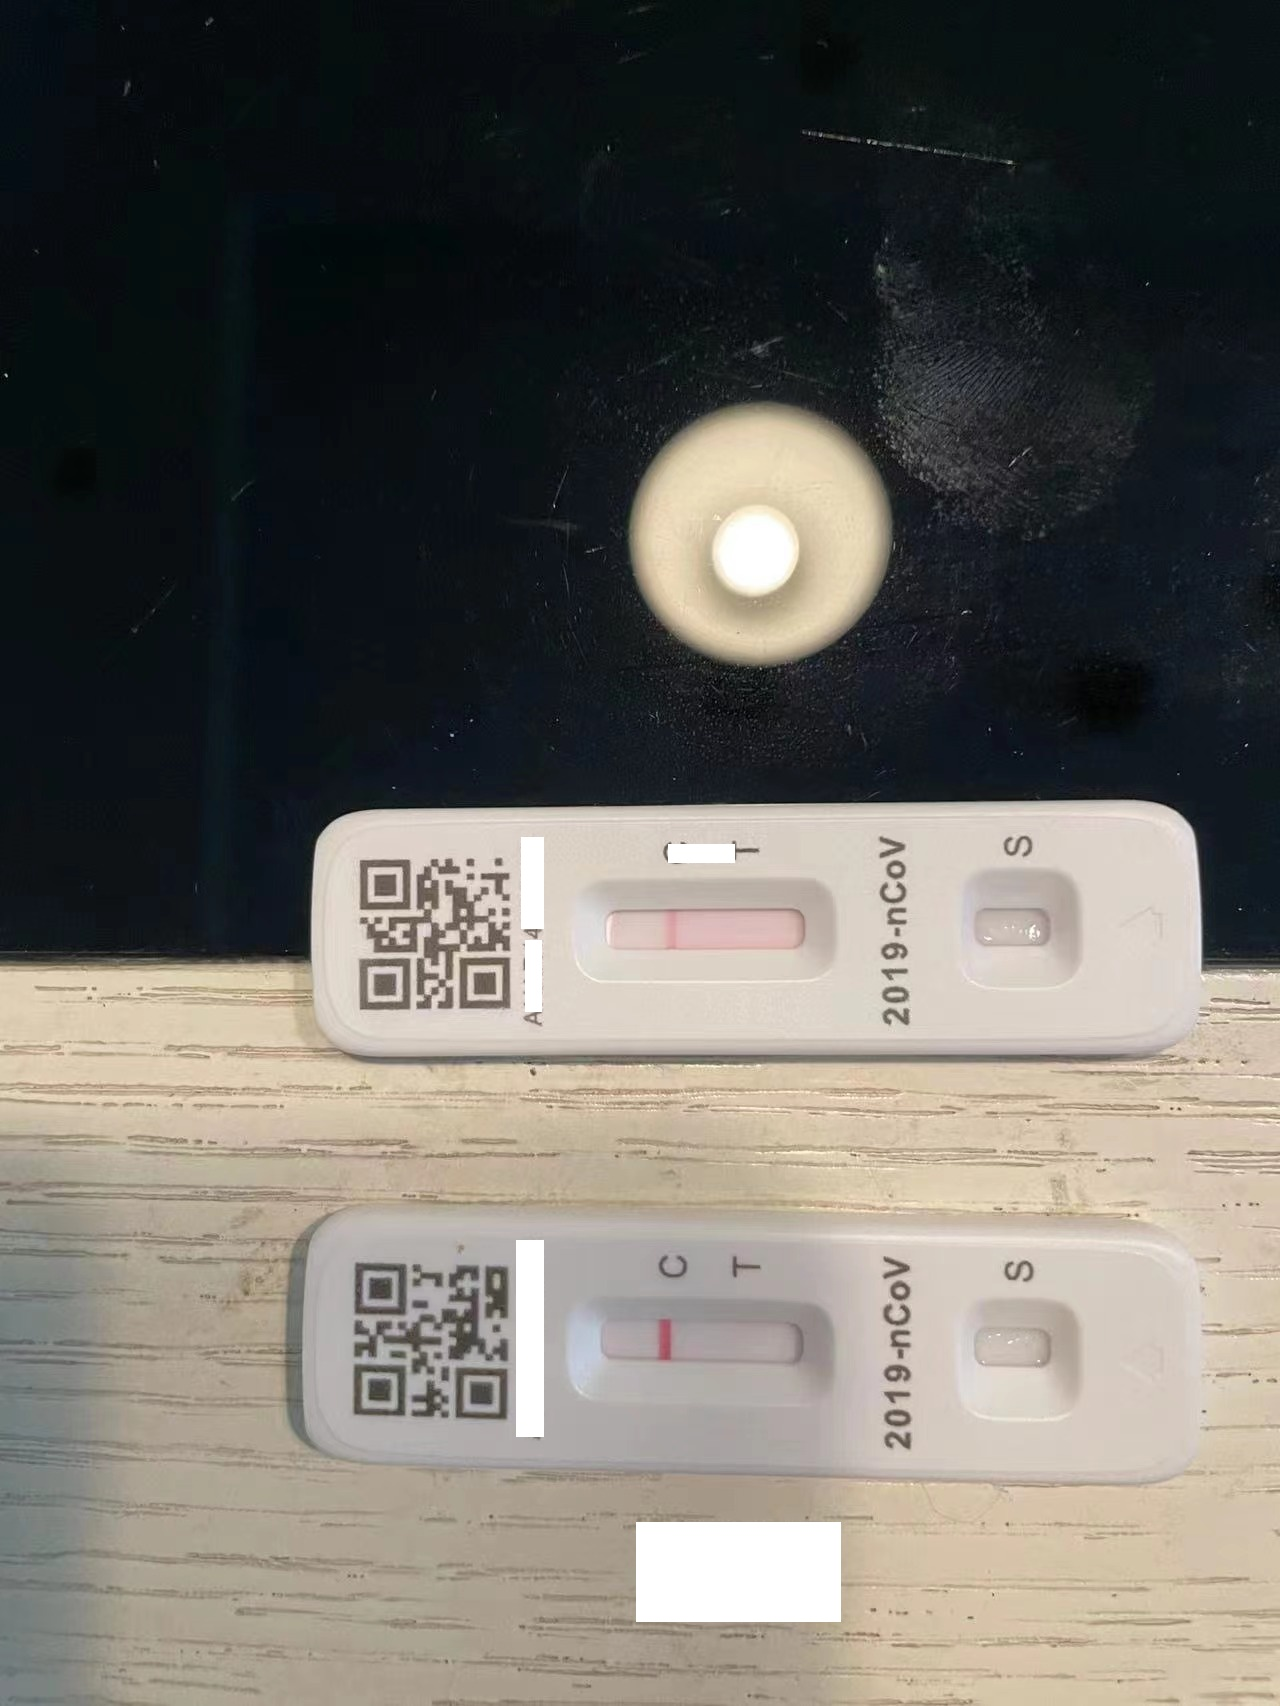negative: (563, 1289, 840, 1406), (570, 885, 835, 981)
